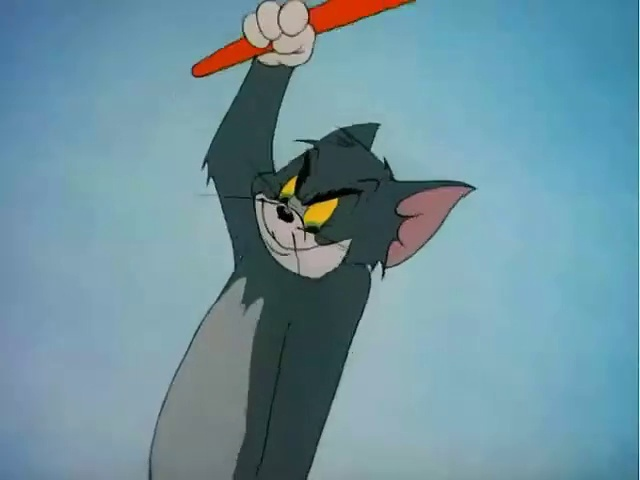tom: (137, 13, 459, 478)
